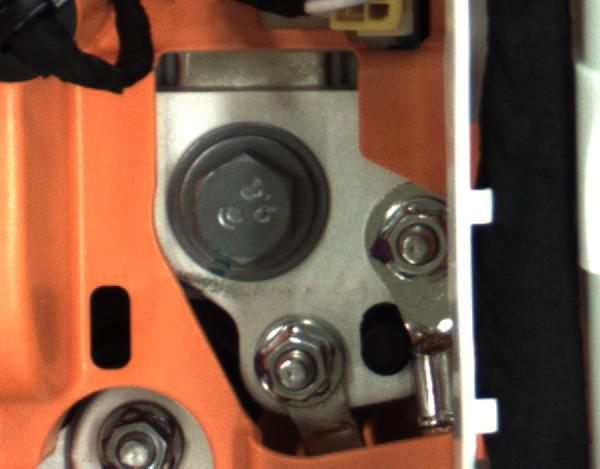nut_b: (156, 126, 340, 282)
screw_s: (250, 308, 342, 407), (366, 197, 447, 289), (91, 410, 178, 469)
